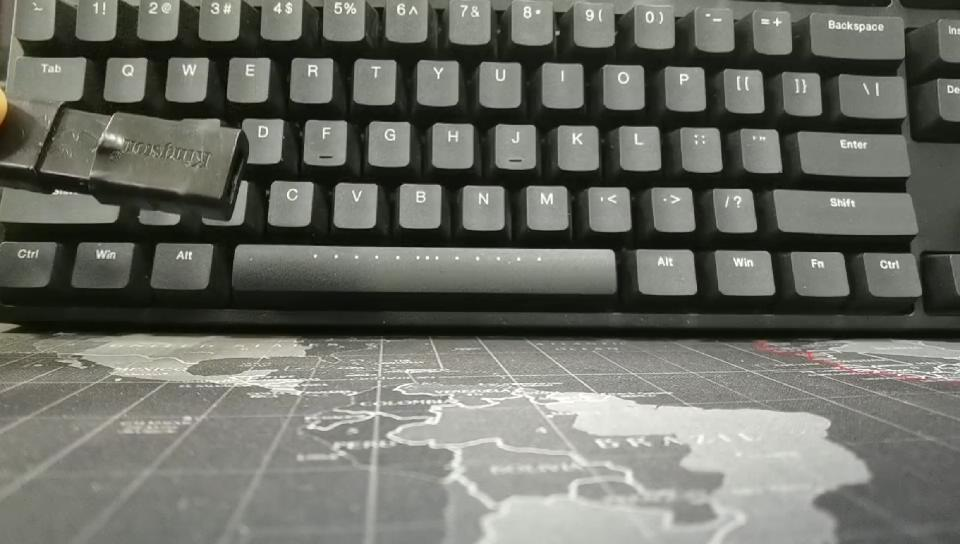dog: (1, 85, 274, 345)
